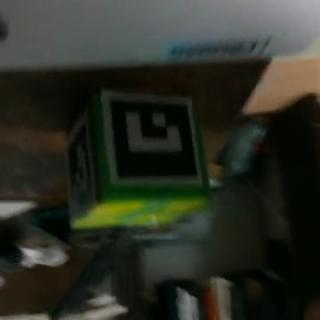armor: (104, 90, 200, 184)
robot: (63, 89, 208, 232)
